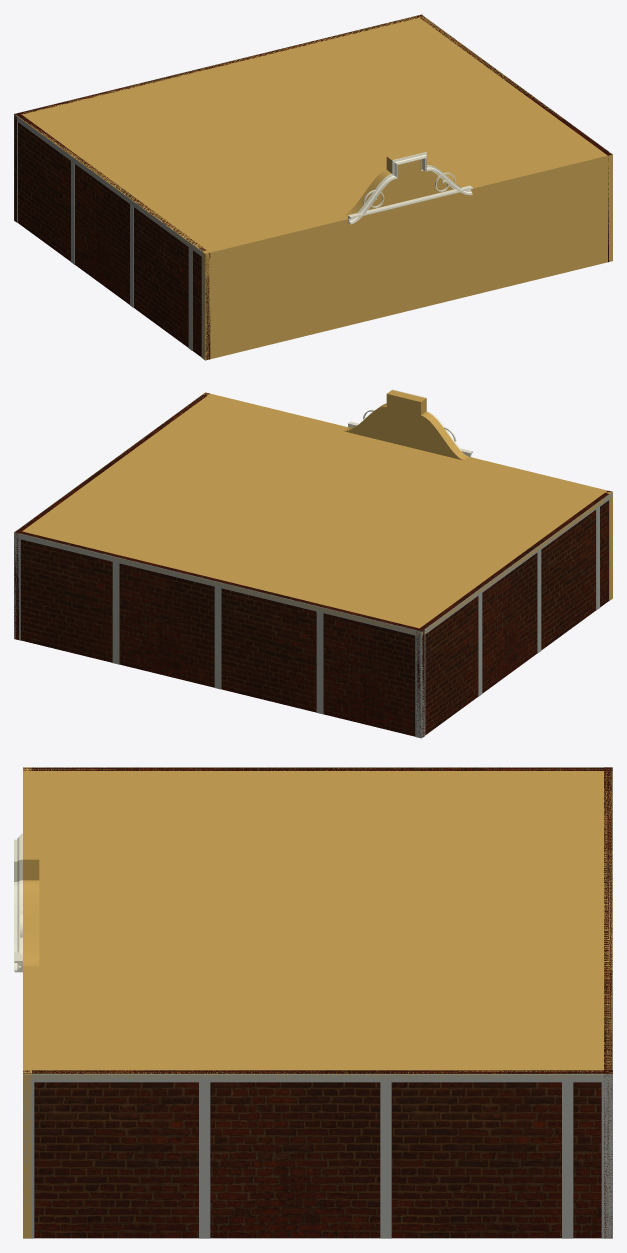
File: building.glb
The picture shows the model from 3 angles, top to bottom: view 1: azimuth 30°, elevation 25°; view 2: azimuth 150°, elevation 25°; view 3: azimuth 270°, elevation 25°; orthographic projection. The views are drawn at different scales.
Visible parts, largest first — view 1: roof/house:0/roof_slab#0001, house:0/edge0/z0/house:0/edge0/z0/wall_0_0, house:0/edge3/z0/house:0/edge3/z0/wall_0_0, crown/coronamiento/crown_body#0001, house:0/edge2/z0/house:0/edge2/z0/wall_0_0, house:0/edge3/z0/house:0/edge3/z0/beam_0_0, house:0/edge1/z0/house:0/edge1/z0/wall_0_0, crown/coronamiento/crown_moulding#0001, crown/coronamiento/crown_base_cornice#0001, house:0/edge3/z0/house:0/edge3/z0/column_4_0; view 2: roof/house:0/roof_slab#0001, house:0/edge2/z0/house:0/edge2/z0/wall_0_0, house:0/edge3/z0/house:0/edge3/z0/wall_0_0, crown/coronamiento/crown_body#0001, house:0/edge2/z0/house:0/edge2/z0/beam_0_0, house:0/edge1/z0/house:0/edge1/z0/wall_0_0, house:0/edge0/z0/house:0/edge0/z0/wall_0_0, house:0/edge3/z0/house:0/edge3/z0/beam_0_0, house:0/edge2/z0/house:0/edge2/z0/column_2_0, house:0/edge2/z0/house:0/edge2/z0/column_3_0, house:0/edge2/z0/house:0/edge2/z0/column_4_0, house:0/edge2/z0/house:0/edge2/z0/column_1_0 (+3 smaller); view 3: roof/house:0/roof_slab#0001, house:0/edge1/z0/house:0/edge1/z0/wall_0_0, house:0/edge1/z0/house:0/edge1/z0/beam_0_0, house:0/edge2/z0/house:0/edge2/z0/wall_0_0, house:0/edge0/z0/house:0/edge0/z0/wall_0_0, house:0/edge3/z0/house:0/edge3/z0/wall_0_0, crown/coronamiento/crown_body#0001, house:0/edge1/z0/house:0/edge1/z0/column_1_0, house:0/edge1/z0/house:0/edge1/z0/column_2_0, house:0/edge1/z0/house:0/edge1/z0/column_3_0, house:0/edge1/z0/house:0/edge1/z0/column_4_0, house:0/edge1/z0/house:0/edge1/z0/column_0_0 (+1 smaller).
Boxes of the visible parts, x1,y1,x2,y2 form: roof/house:0/roof_slab#0001: (15,15,612,257); house:0/edge0/z0/house:0/edge0/z0/wall_0_0: (202,152,612,360); house:0/edge3/z0/house:0/edge3/z0/wall_0_0: (16,113,210,359); crown/coronamiento/crown_body#0001: (343,148,465,218); house:0/edge2/z0/house:0/edge2/z0/wall_0_0: (14,14,422,222); house:0/edge3/z0/house:0/edge3/z0/beam_0_0: (14,114,205,258); house:0/edge1/z0/house:0/edge1/z0/wall_0_0: (417,15,612,262); crown/coronamiento/crown_moulding#0001: (348,152,472,224); crown/coronamiento/crown_base_cornice#0001: (348,185,473,219); house:0/edge3/z0/house:0/edge3/z0/column_4_0: (188,247,192,350); roof/house:0/roof_slab#0001: (14,394,612,635); house:0/edge2/z0/house:0/edge2/z0/wall_0_0: (15,530,424,737); house:0/edge3/z0/house:0/edge3/z0/wall_0_0: (416,490,612,735); crown/coronamiento/crown_body#0001: (343,390,468,460); house:0/edge2/z0/house:0/edge2/z0/beam_0_0: (14,532,421,636); house:0/edge1/z0/house:0/edge1/z0/wall_0_0: (14,392,209,639); house:0/edge0/z0/house:0/edge0/z0/wall_0_0: (202,392,612,600); house:0/edge3/z0/house:0/edge3/z0/beam_0_0: (421,492,612,636); house:0/edge2/z0/house:0/edge2/z0/column_2_0: (112,562,119,664); house:0/edge2/z0/house:0/edge2/z0/column_3_0: (214,587,221,689); house:0/edge2/z0/house:0/edge2/z0/column_4_0: (316,611,323,714); house:0/edge2/z0/house:0/edge2/z0/column_1_0: (415,635,421,738); roof/house:0/roof_slab#0001: (23,767,612,1079); house:0/edge1/z0/house:0/edge1/z0/wall_0_0: (23,1070,612,1238); house:0/edge1/z0/house:0/edge1/z0/beam_0_0: (23,1074,612,1082); house:0/edge2/z0/house:0/edge2/z0/wall_0_0: (604,767,612,1237); house:0/edge0/z0/house:0/edge0/z0/wall_0_0: (23,767,31,1238); house:0/edge3/z0/house:0/edge3/z0/wall_0_0: (23,767,612,770); crown/coronamiento/crown_body#0001: (25,833,39,966); house:0/edge1/z0/house:0/edge1/z0/column_1_0: (601,1082,612,1238); house:0/edge1/z0/house:0/edge1/z0/column_2_0: (199,1082,210,1238); house:0/edge1/z0/house:0/edge1/z0/column_3_0: (380,1082,391,1238); house:0/edge1/z0/house:0/edge1/z0/column_4_0: (562,1082,573,1238); house:0/edge1/z0/house:0/edge1/z0/column_0_0: (23,1082,34,1238).
Size of the model in its own units: 16 by 5.8 by 13.2.
4 materials, 1 textured.
